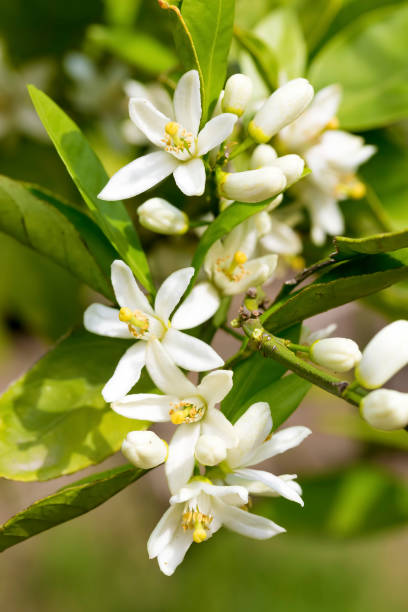flower: (64, 255, 231, 396), (86, 71, 239, 211), (120, 338, 260, 491), (140, 484, 300, 589), (202, 225, 282, 296)
